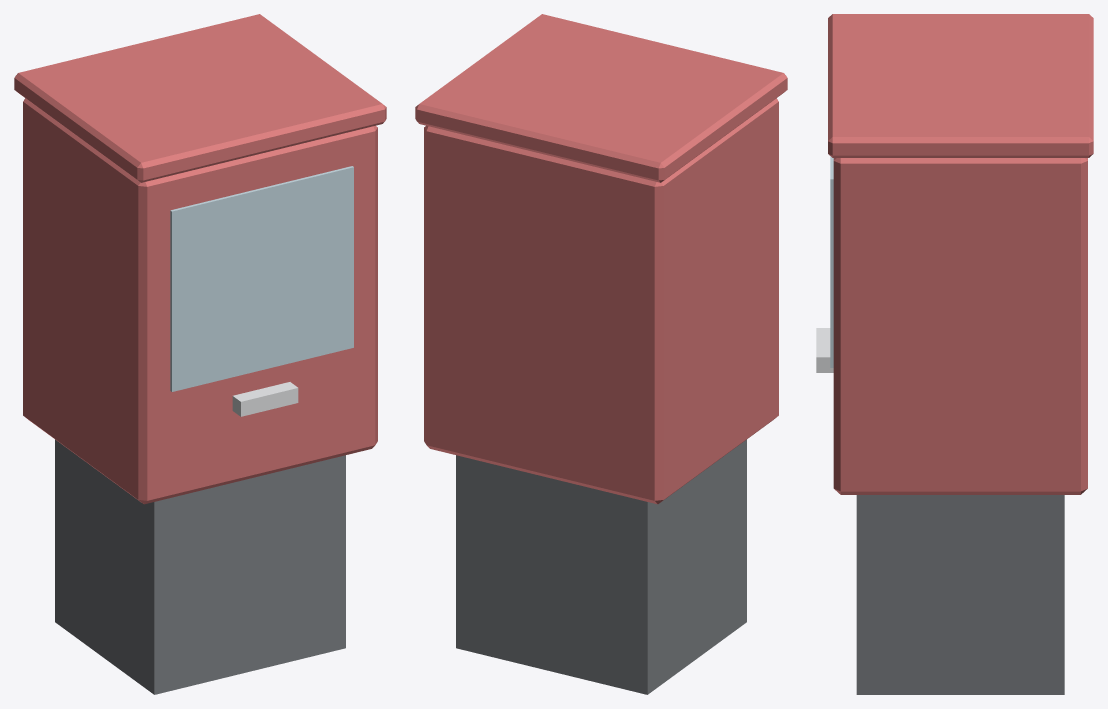
The model's file is news_box.glb.
3 renders of one model, left to right at view 1: azimuth 30°, elevation 25°; view 2: azimuth 150°, elevation 25°; view 3: azimuth 270°, elevation 25°, orthographic. The views are drawn at different scales.
Parts seen in each view (by area): view 1: news_box_flag_r, news_box_steel_d, news_box_glass, news_box_chrome; view 2: news_box_flag_r, news_box_steel_d; view 3: news_box_flag_r, news_box_steel_d, news_box_glass, news_box_chrome.
Boxes of the visible parts, x1,y1,x2,y2 form: news_box_flag_r: (14,14,386,504); news_box_steel_d: (55,439,345,694); news_box_glass: (170,166,353,391); news_box_chrome: (232,382,298,416); news_box_flag_r: (415,14,787,504); news_box_steel_d: (456,439,746,694); news_box_flag_r: (828,14,1093,494); news_box_steel_d: (856,495,1064,694); news_box_glass: (830,156,833,367); news_box_chrome: (816,328,833,372).
Size of the model in its own units: 0.52 by 1.09 by 0.48.
